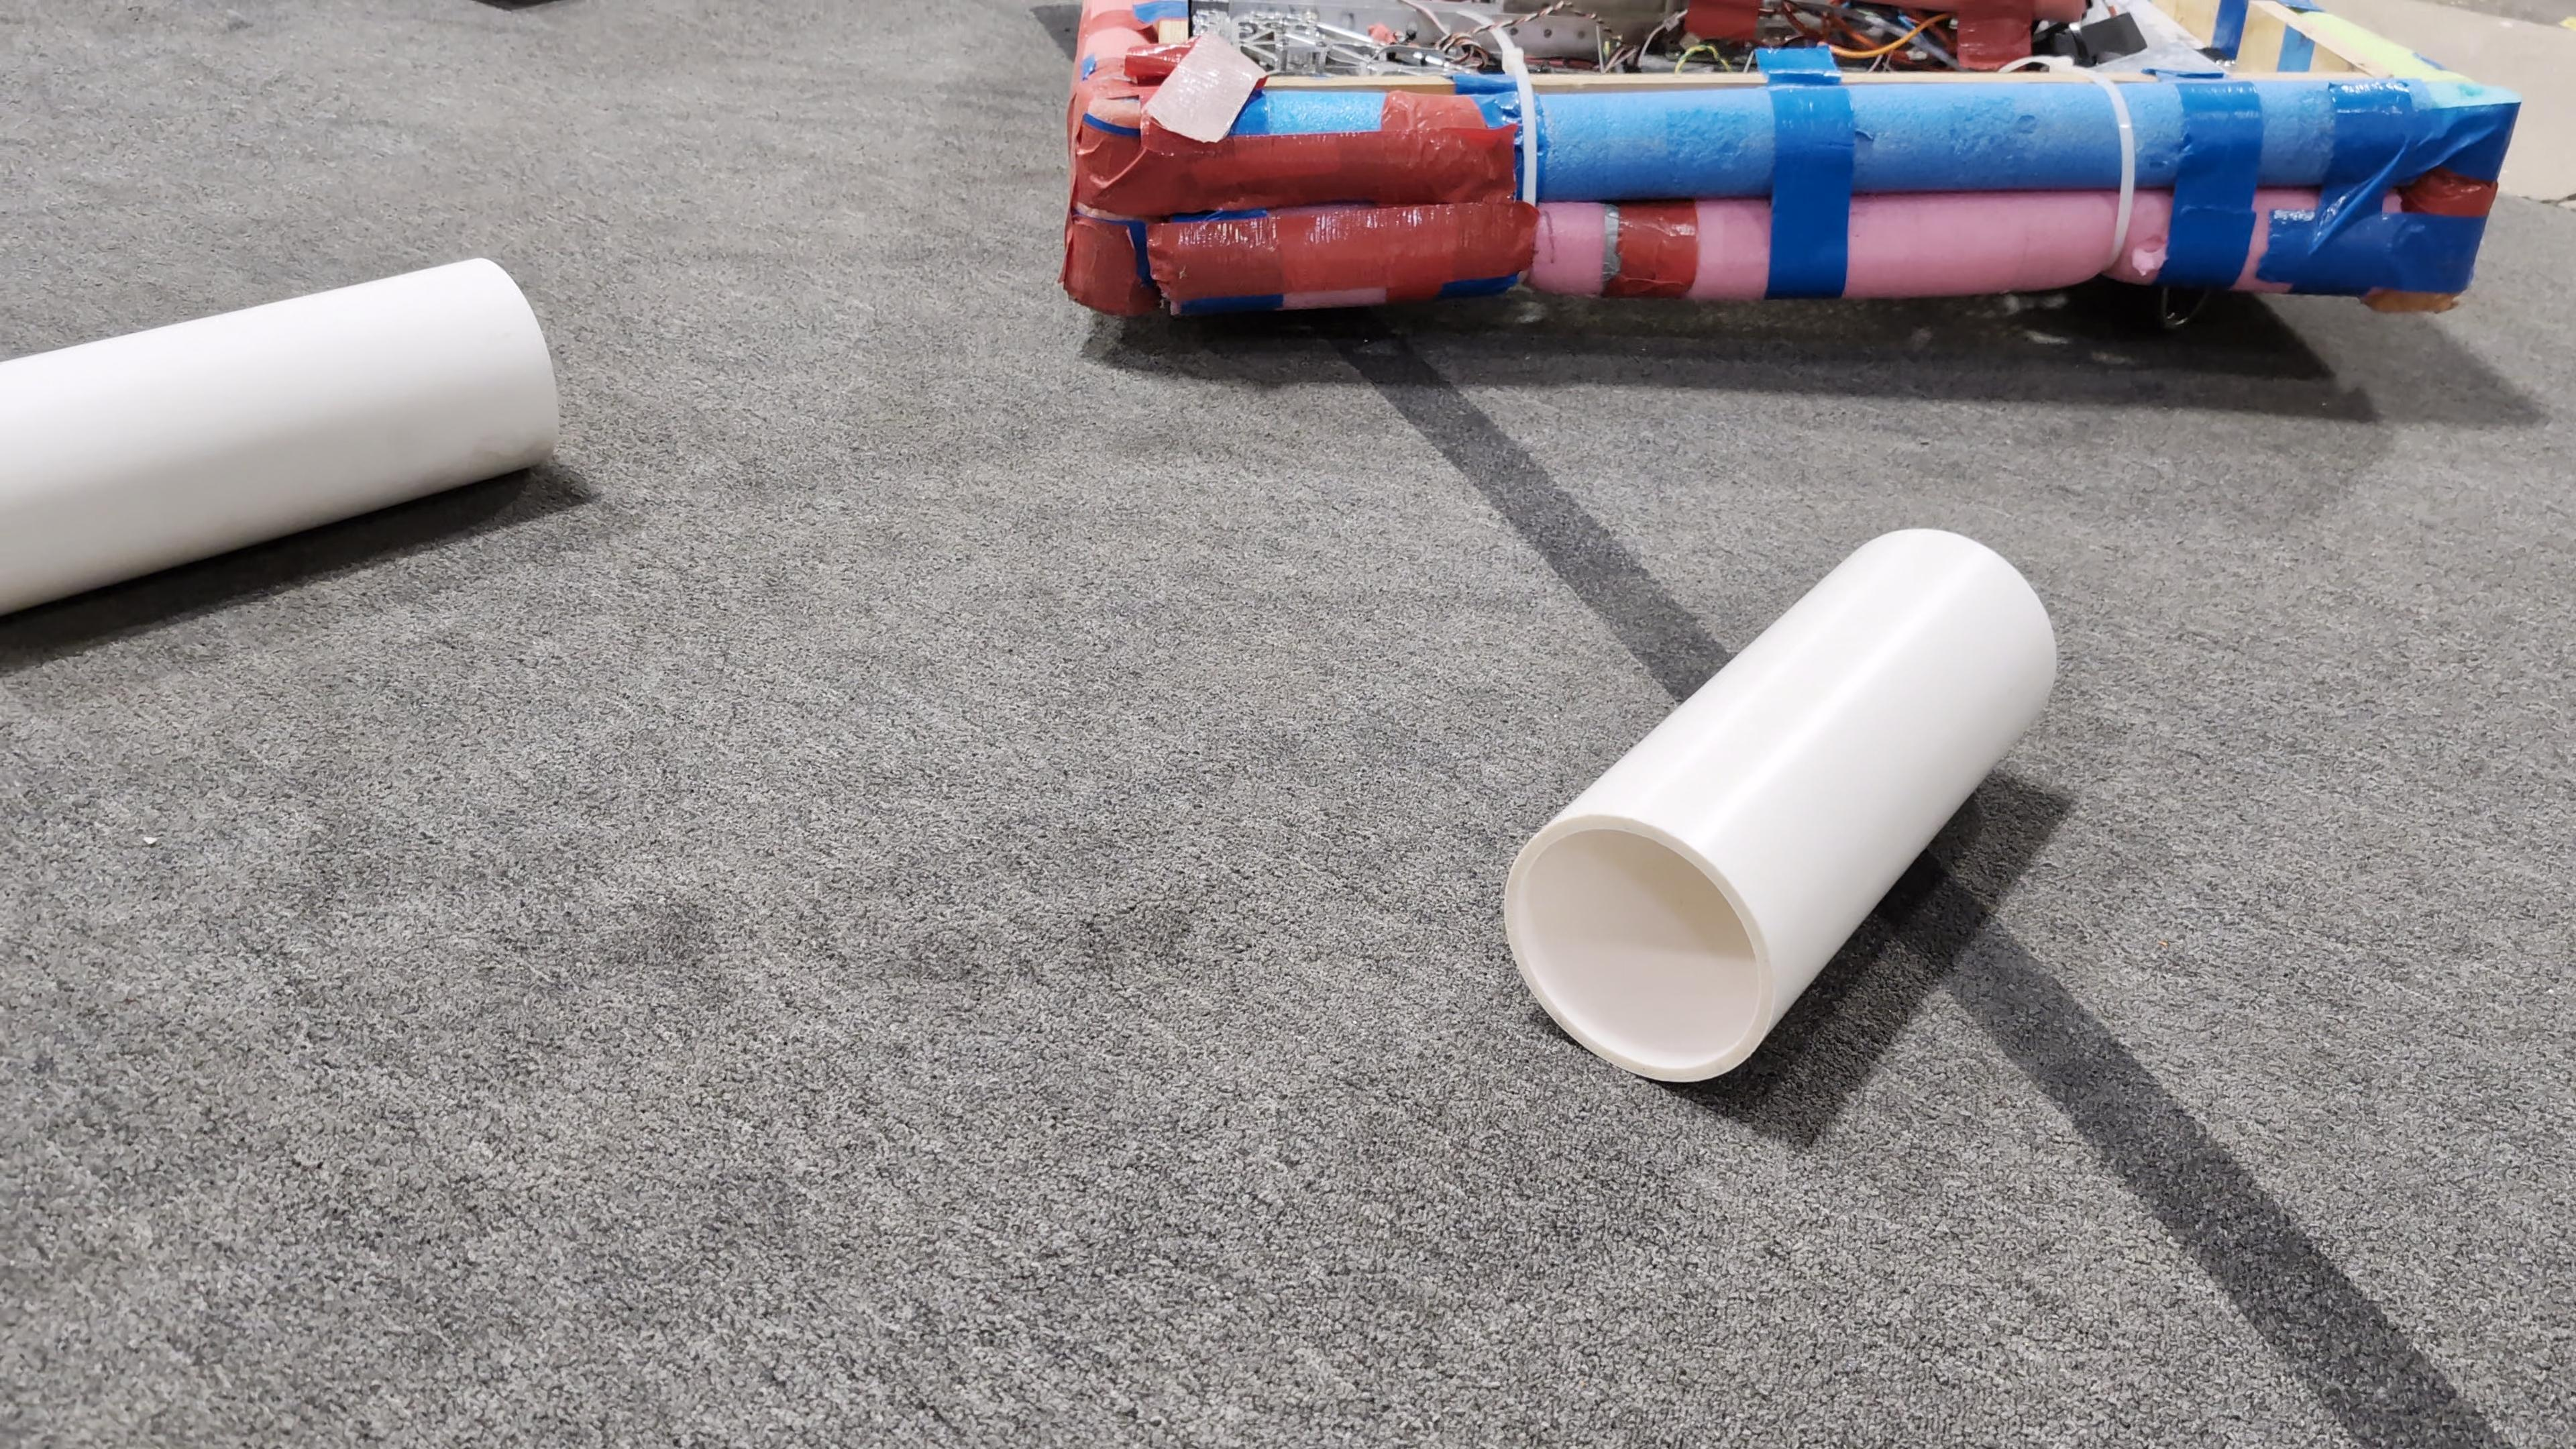coral: (1504, 527, 2059, 1081), (0, 258, 559, 612)
